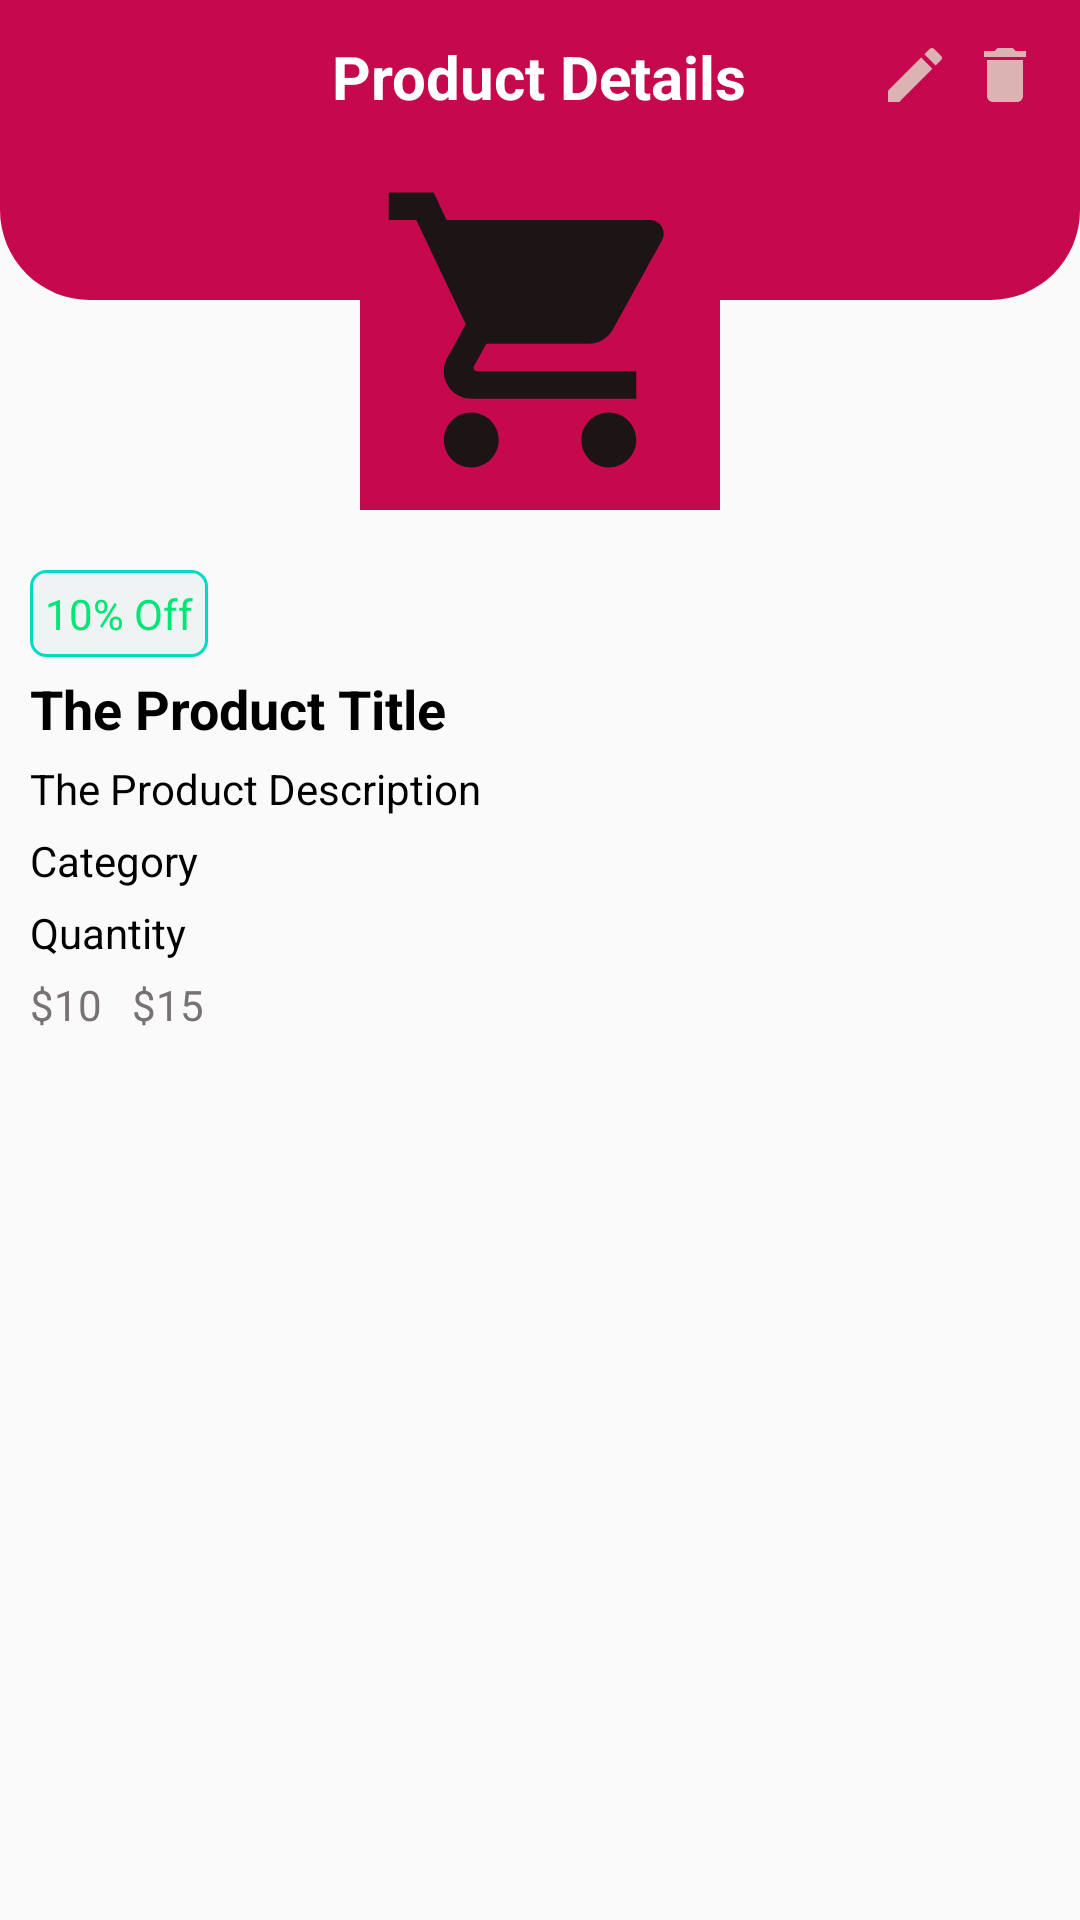

Named icons in this screenshot (1080*1920) and their centers, point (x, y):
delete: point (1005, 75)
edit: point (915, 75)
shopping cart: point (526, 330)
